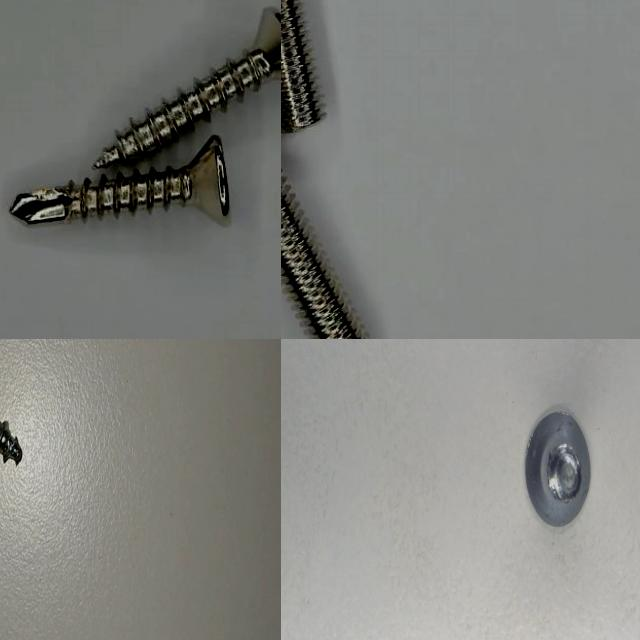Screw: (94, 8, 281, 168), (9, 136, 229, 225), (281, 170, 366, 339), (523, 406, 592, 530), (281, 0, 322, 132)
